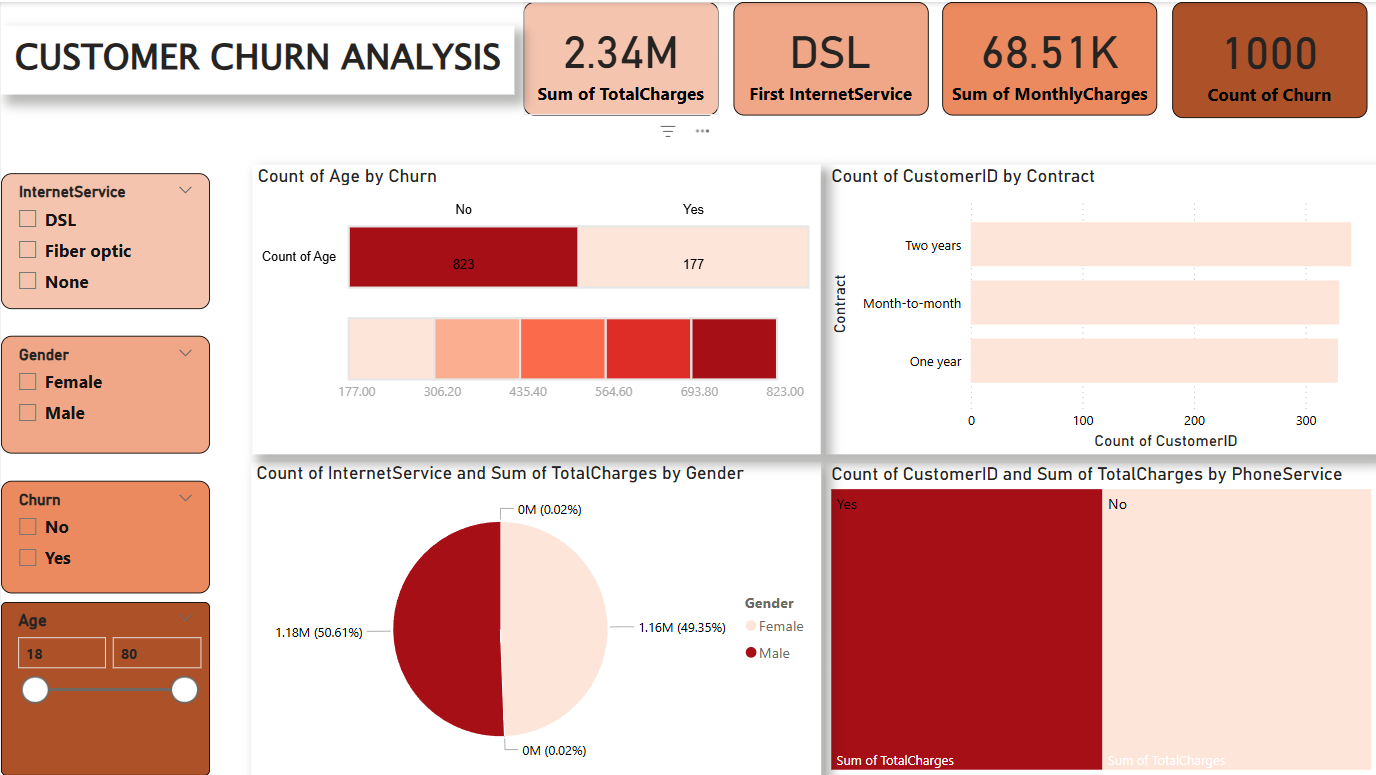

What the dashboard file says about the page in this screenshot:
{"tool":"powerbi","page":{"name":"Page 1","canvas":[1280,720],"ordinal":0},"visuals":[{"type":"treemap","fields":{"Group":["Customer Churn Analysis.PhoneService"],"Values":["CountNonNull(Customer Churn Analysis.CustomerID)","Sum(Customer Churn Analysis.TotalCharges)"]},"box":[768,429,512,290.4],"z":0},{"type":"barChart","fields":{"Category":["Customer Churn Analysis.Contract"],"Y":["CountNonNull(Customer Churn Analysis.CustomerID)"]},"box":[767.4,151.2,512.8,269.8],"z":1000},{"type":"pieChart","fields":{"Category":["Customer Churn Analysis.Gender"],"Y":["CountNonNull(Customer Churn Analysis.InternetService)","Sum(Customer Churn Analysis.TotalCharges)"]},"box":[232.6,427.9,530.2,291.9],"z":2000},{"type":"TableHeatMap1443716069308","fields":{"Y":["CountNonNull(Customer Churn Analysis.Age)"],"Category":["Customer Churn Analysis.Churn"]},"box":[233.7,151.2,529.1,269.8],"z":3000},{"type":"card","fields":{"Values":["Min(Customer Churn Analysis.InternetService)"]},"box":[681,0,181.4,105.8],"z":4000},{"type":"card","fields":{"Values":["Sum(Customer Churn Analysis.MonthlyCharges)"]},"box":[876,0,200,105.8],"z":5000},{"type":"card","fields":{"Values":["CountNonNull(Customer Churn Analysis.Churn)"]},"box":[1089.5,0,181.4,108.1],"z":6000},{"type":"card","fields":{"Values":["Sum(Customer Churn Analysis.TotalCharges)"]},"box":[486,0,181.4,105.8],"z":7000},{"type":"textbox","box":[0,22.1,477.9,64],"z":8000},{"type":"slicer","fields":{"Values":["Customer Churn Analysis.InternetService"]},"box":[0,159.3,194.2,126.7],"z":9000},{"type":"slicer","fields":{"Values":["Customer Churn Analysis.Gender"]},"box":[0,310.9,194.2,109.3],"z":10000},{"type":"slicer","fields":{"Values":["Customer Churn Analysis.Churn"]},"box":[0,445,194.2,104.7],"z":11000},{"type":"slicer","fields":{"Values":["Customer Churn Analysis.Age"]},"box":[0,558.1,194.2,161.6],"z":11001}]}

Visuals, with their boxes in screenshot pixels (x1, y1, x2, y2), scaled from the page's 1280x720 canvas onto the 1376x775 screenshot:
treemap - Customer Churn Analysis.PhoneService x CountNonNull(Customer Churn Analysis.CustomerID): (x1=826, y1=462, x2=1375, y2=774)
barChart - Customer Churn Analysis.Contract x CountNonNull(Customer Churn Analysis.CustomerID): (x1=825, y1=163, x2=1375, y2=453)
pieChart - Customer Churn Analysis.Gender x CountNonNull(Customer Churn Analysis.InternetService): (x1=250, y1=461, x2=820, y2=774)
TableHeatMap1443716069308 - CountNonNull(Customer Churn Analysis.Age) x Customer Churn Analysis.Churn: (x1=251, y1=163, x2=820, y2=453)
card - Min(Customer Churn Analysis.InternetService): (x1=732, y1=0, x2=927, y2=114)
card - Sum(Customer Churn Analysis.MonthlyCharges): (x1=942, y1=0, x2=1157, y2=114)
card - CountNonNull(Customer Churn Analysis.Churn): (x1=1171, y1=0, x2=1366, y2=116)
card - Sum(Customer Churn Analysis.TotalCharges): (x1=522, y1=0, x2=717, y2=114)
textbox: (x1=0, y1=24, x2=514, y2=93)
slicer - Customer Churn Analysis.InternetService: (x1=0, y1=171, x2=209, y2=308)
slicer - Customer Churn Analysis.Gender: (x1=0, y1=335, x2=209, y2=452)
slicer - Customer Churn Analysis.Churn: (x1=0, y1=479, x2=209, y2=592)
slicer - Customer Churn Analysis.Age: (x1=0, y1=601, x2=209, y2=774)
